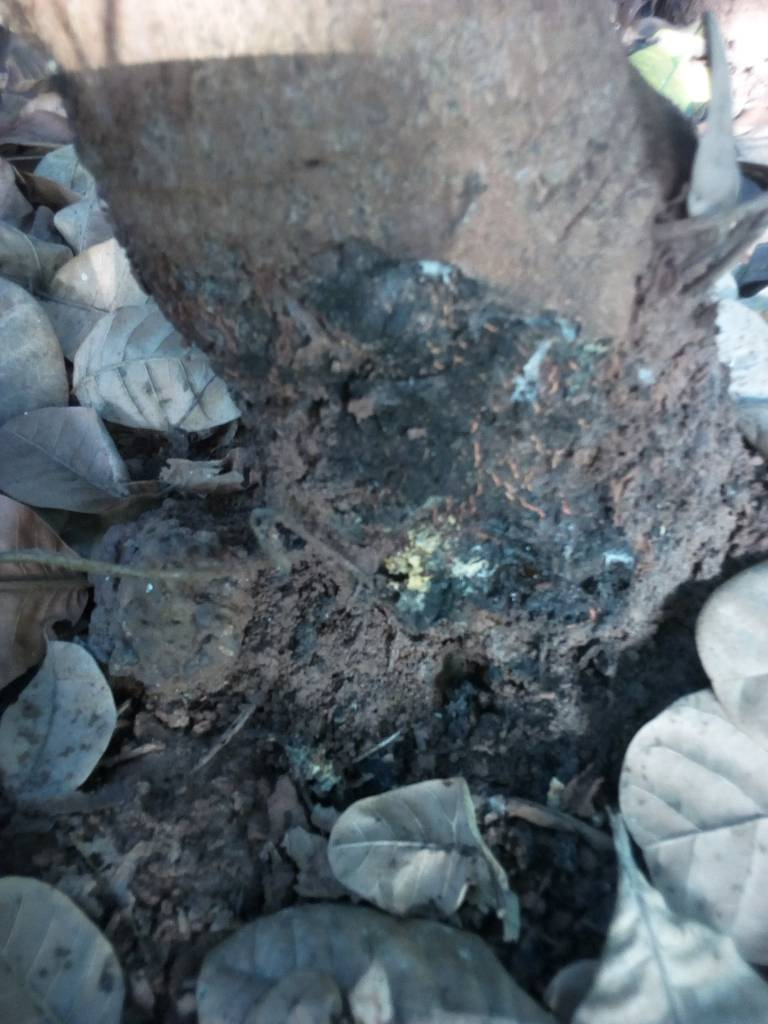Gommose: (210, 227, 679, 636)
